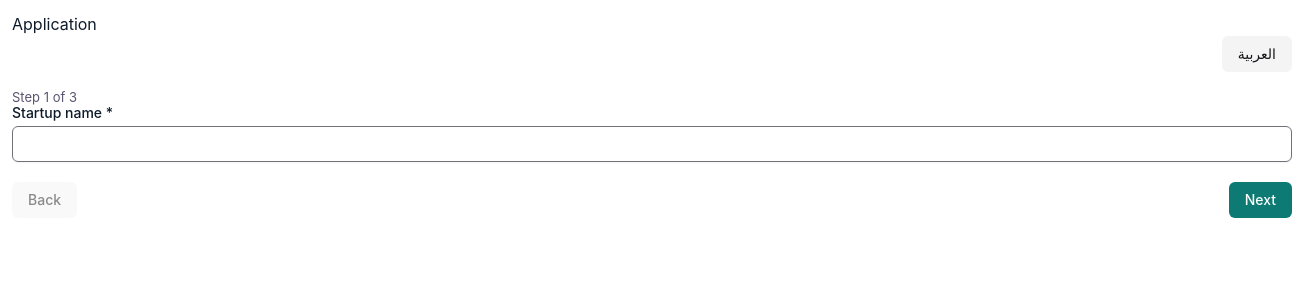
Test: steps Next through to the confirm step with the no-edit warning
This screenshot has width=1304, height=305.
Expected: the text "Startup name *" is shown, x1=12 y1=104 x2=113 y2=121
Click the button "Next" at (1260, 200), box x1=1229 y1=182 x2=1292 y2=218
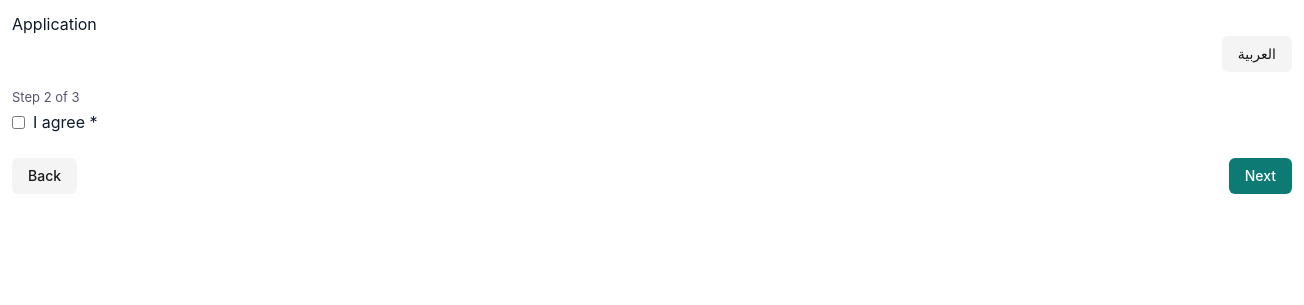
Click the button "Next" at (1260, 176), box x1=1229 y1=158 x2=1292 y2=194
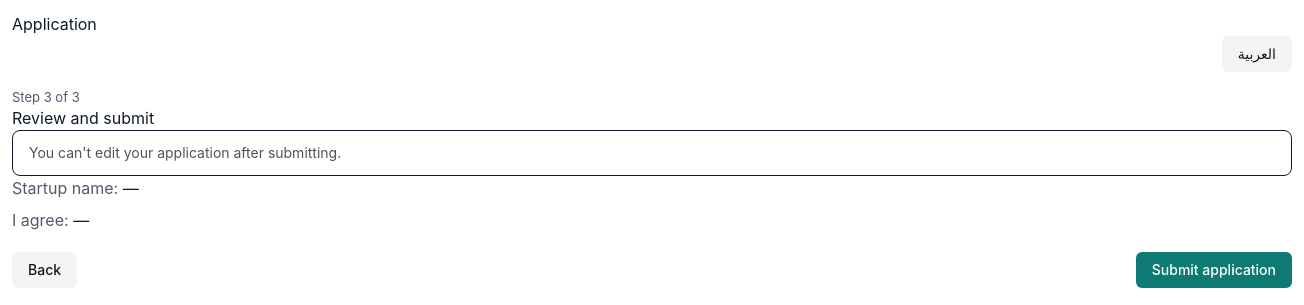
Result: the heading "Review and submit" is shown at x1=12 y1=108 x2=154 y2=128
Result: the text "You can't edit your application after submitting." is shown at x1=29 y1=144 x2=341 y2=161
